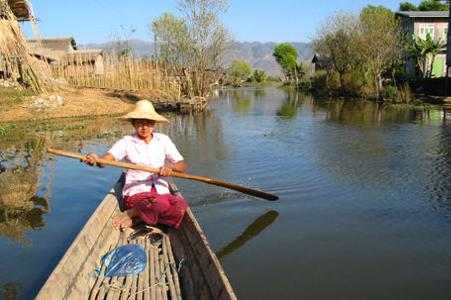person: (82, 99, 191, 229)
